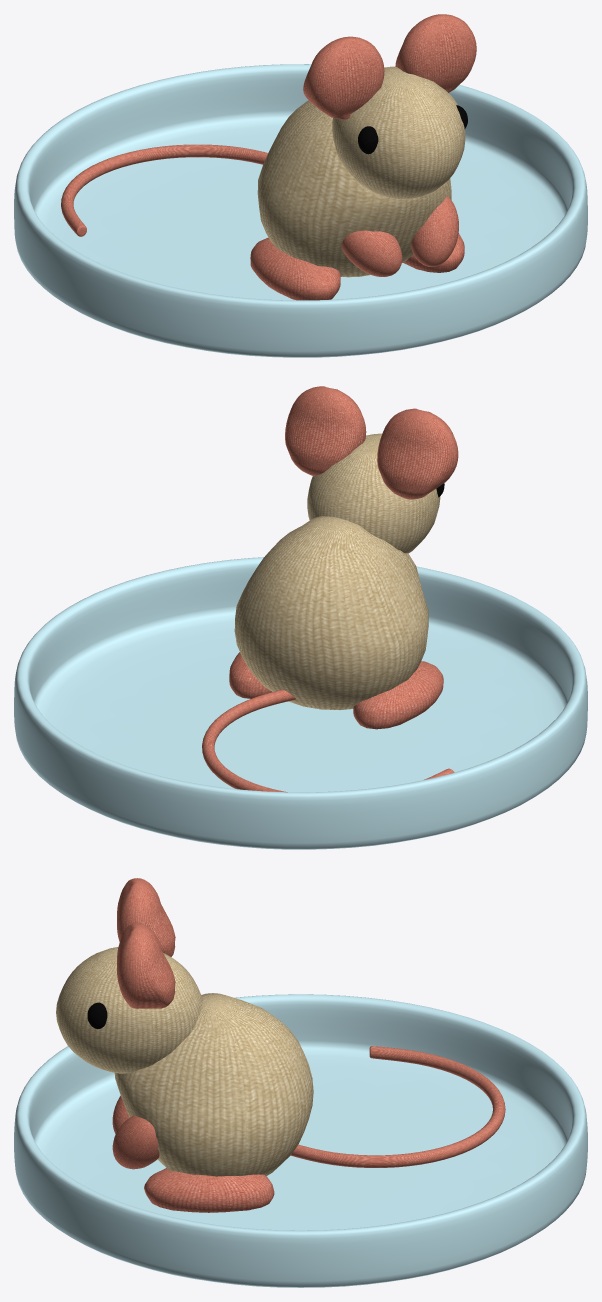
File: gracieAriannePeh_ratPetriDish.fbx
The picture shows the model from 3 angles, top to bottom: view 1: azimuth 30°, elevation 25°; view 2: azimuth 150°, elevation 25°; view 3: azimuth 270°, elevation 25°; orthographic projection.
Visible parts, largest first — view 1: petri_dish, body, head, left_ear, left_ear1, left_leg, tail, arm1, arm, right_leg, eye1; view 2: petri_dish, body, head, left_ear, left_ear1, left_leg, tail, right_leg; view 3: petri_dish, body, head, tail, right_leg, left_ear1, left_ear, arm1.
Boxes of the visible parts, x1=… form: petri_dish: x1=14, y1=64, x2=587, y2=357; body: x1=257, y1=100, x2=451, y2=277; head: x1=332, y1=66, x2=465, y2=198; left_ear: x1=303, y1=36, x2=384, y2=119; left_ear1: x1=395, y1=14, x2=476, y2=92; left_leg: x1=250, y1=237, x2=340, y2=300; tail: x1=61, y1=144, x2=268, y2=236; arm1: x1=410, y1=196, x2=458, y2=266; arm: x1=341, y1=230, x2=402, y2=276; right_leg: x1=403, y1=233, x2=464, y2=272; eye1: x1=358, y1=126, x2=378, y2=154; petri_dish: x1=14, y1=557, x2=587, y2=849; body: x1=234, y1=516, x2=428, y2=709; head: x1=307, y1=433, x2=440, y2=553; left_ear: x1=377, y1=408, x2=458, y2=499; left_ear1: x1=285, y1=386, x2=366, y2=476; left_leg: x1=353, y1=661, x2=443, y2=729; tail: x1=202, y1=689, x2=454, y2=792; right_leg: x1=229, y1=652, x2=272, y2=698; petri_dish: x1=14, y1=994, x2=587, y2=1287; body: x1=114, y1=993, x2=313, y2=1176; head: x1=56, y1=947, x2=202, y2=1073; tail: x1=291, y1=1046, x2=505, y2=1167; right_leg: x1=144, y1=1168, x2=274, y2=1212; left_ear1: x1=117, y1=923, x2=175, y2=1008; left_ear: x1=117, y1=878, x2=175, y2=956; arm1: x1=112, y1=1115, x2=159, y2=1169.
Bounding box in the file's own units: 0.5396 × 0.2819 × 0.5396.
